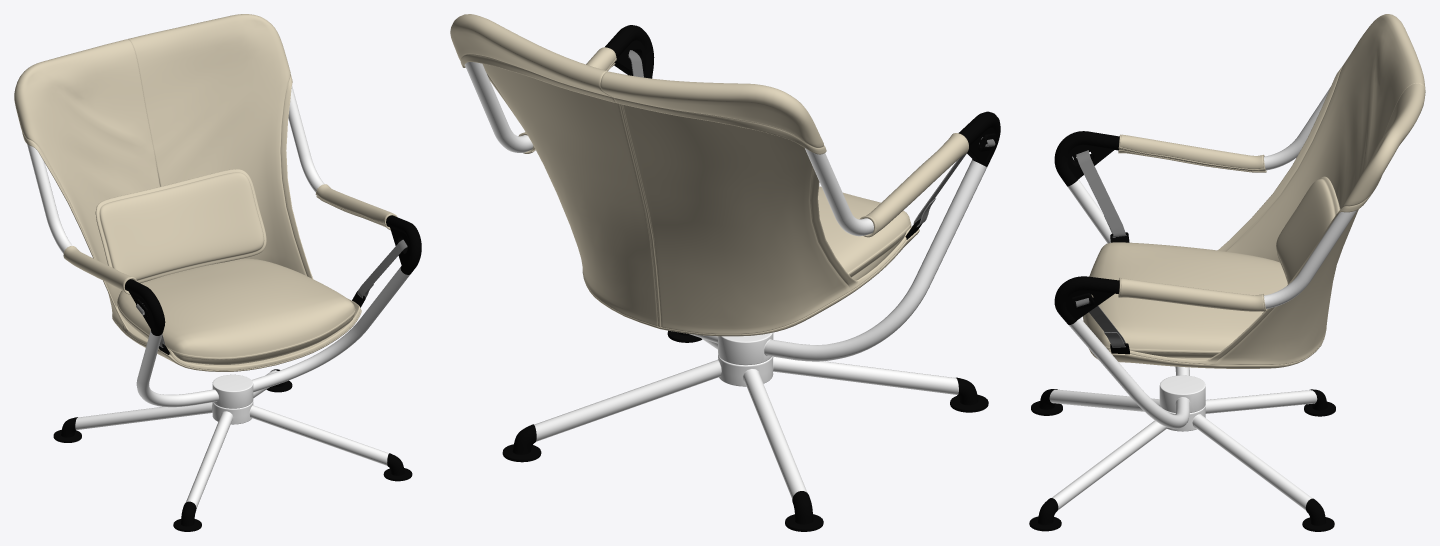
Rendered from SwingChair.FBX.
The picture shows the model from 3 angles, left to right: view 1: azimuth 30°, elevation 25°; view 2: azimuth 150°, elevation 25°; view 3: azimuth 270°, elevation 25°; orthographic projection. The views are drawn at different scales.
Visible parts, largest first — view 1: vitra_waver; view 2: vitra_waver; view 3: vitra_waver.
Part boxes in pixels (x1,y1,x2,y2): vitra_waver: (14, 14, 421, 531); vitra_waver: (450, 14, 1000, 531); vitra_waver: (1029, 14, 1425, 531).
Bounding box in the file's own units: 82.18 × 98.85 × 90.36.
